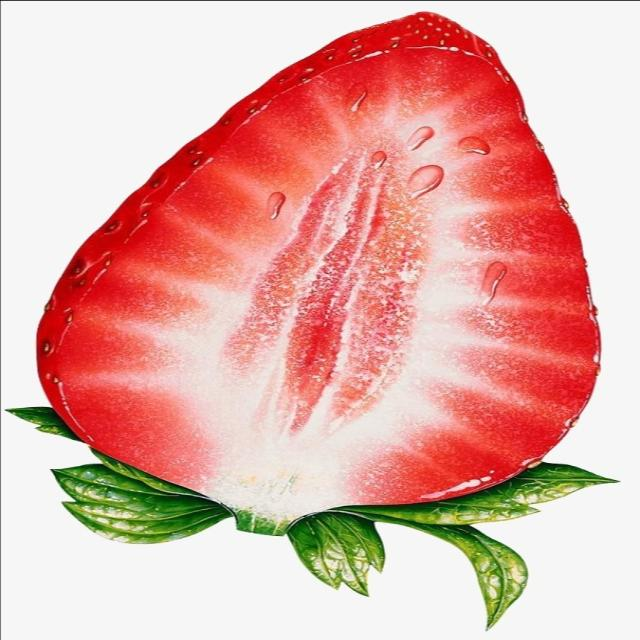strawberry: (0, 15, 617, 640)
